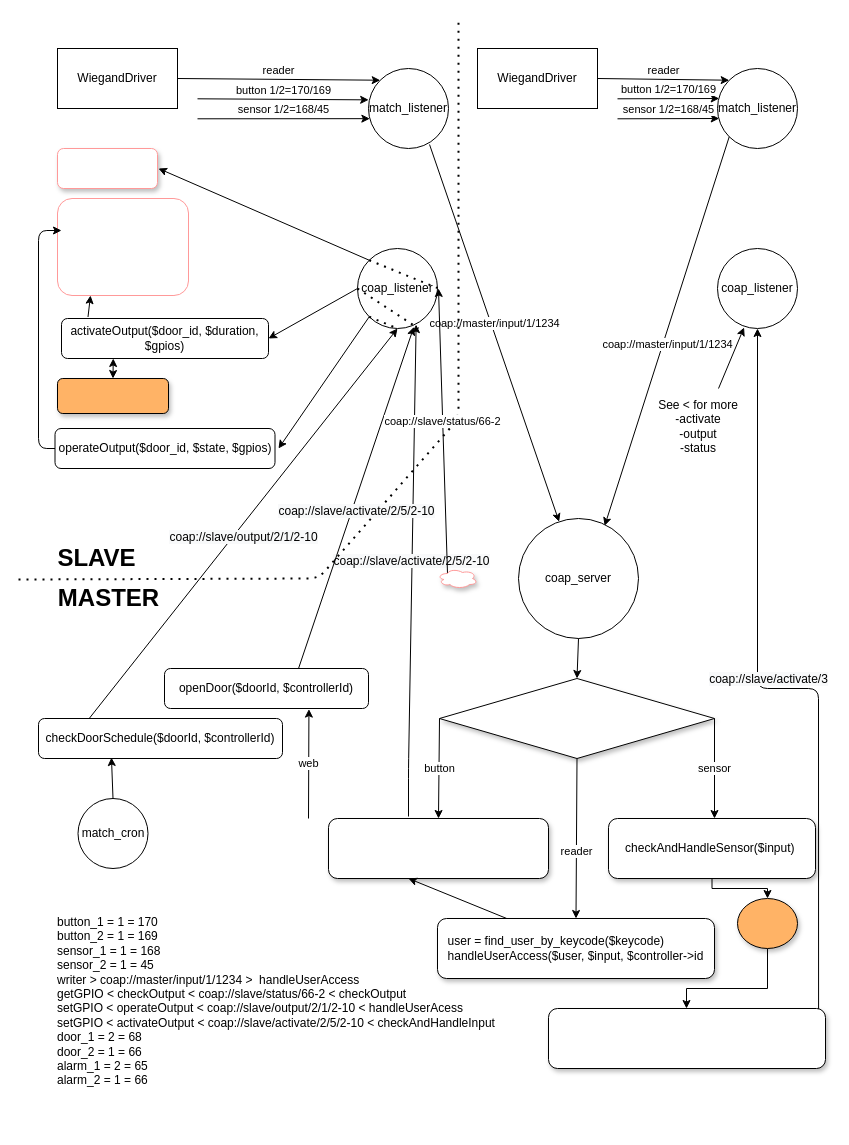
This 849x1145 diagram has some shape labels left out. The centre of each missing label's shape, as x and y in pixels:
find_alarm_for_sensor_id($id,$controllerId) soundAlarm(): point (688, 1040)
getGPIO: point (108, 170)
handleInput($from, $input, $keycode) controller = resolveController($from);: point (577, 720)
openDoor($door->id, $controllerId);: point (439, 850)
setGPIO door 1/2=68/66 alarm 1/2=65/66 writer led 1/2=2/10 buzzer 79: point (122, 247)
timer: point (768, 925)
timerFunction: point (113, 397)
